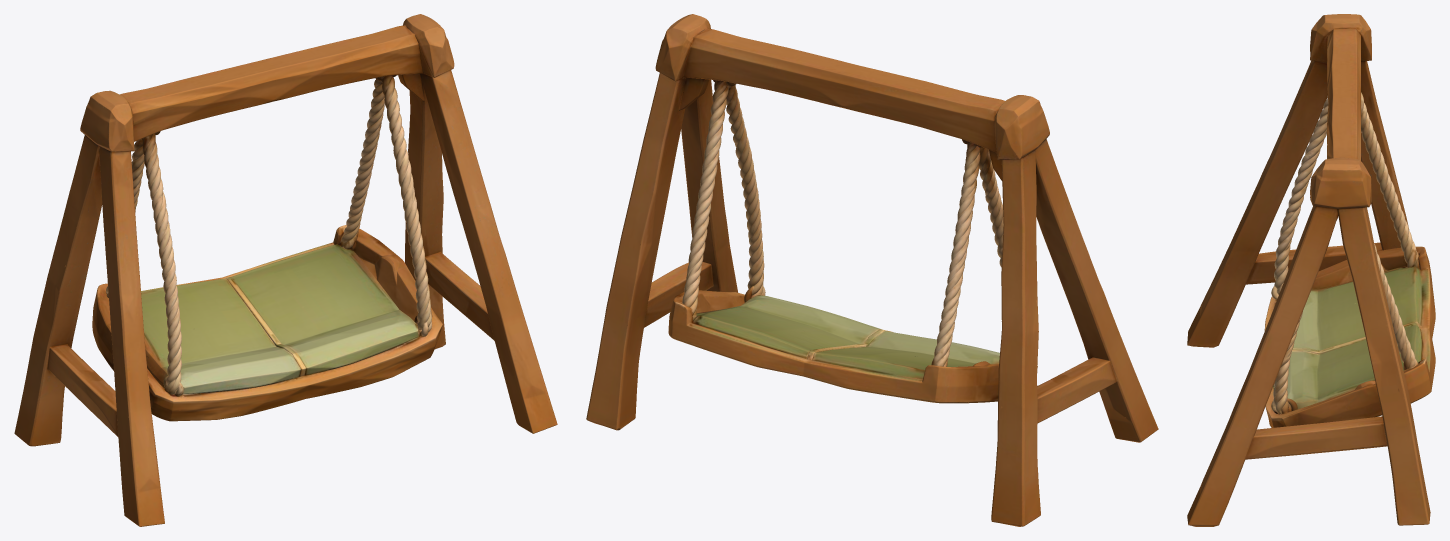
The picture shows the model from 3 angles, left to right: view 1: azimuth 30°, elevation 25°; view 2: azimuth 150°, elevation 25°; view 3: azimuth 270°, elevation 25°; orthographic projection. The views are drawn at different scales.
Parts seen in each view (by area): view 1: node_0; view 2: node_0; view 3: node_0.
Part boxes in pixels (box(x1,y1,x2,y2)): node_0: box(14, 14, 557, 526); node_0: box(586, 14, 1158, 526); node_0: box(1187, 14, 1435, 526).
Size of the model in its own units: 0.8641 by 0.7155 by 0.468.
1 material, 1 textured.
